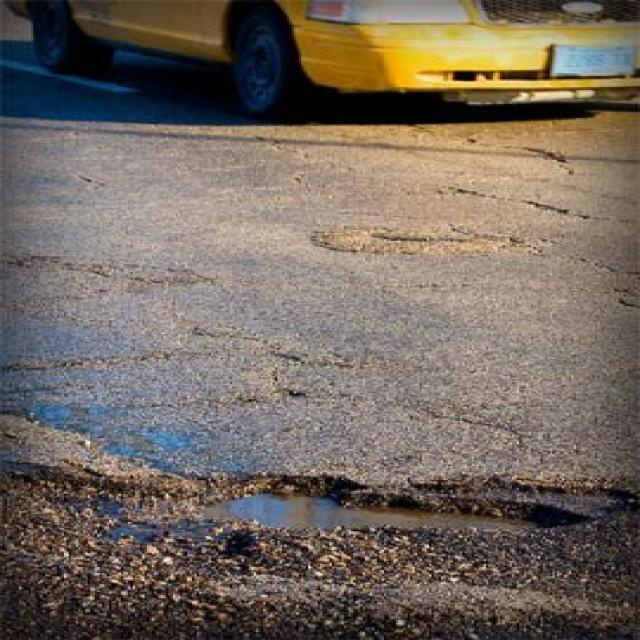pothole: (199, 456, 586, 540)
